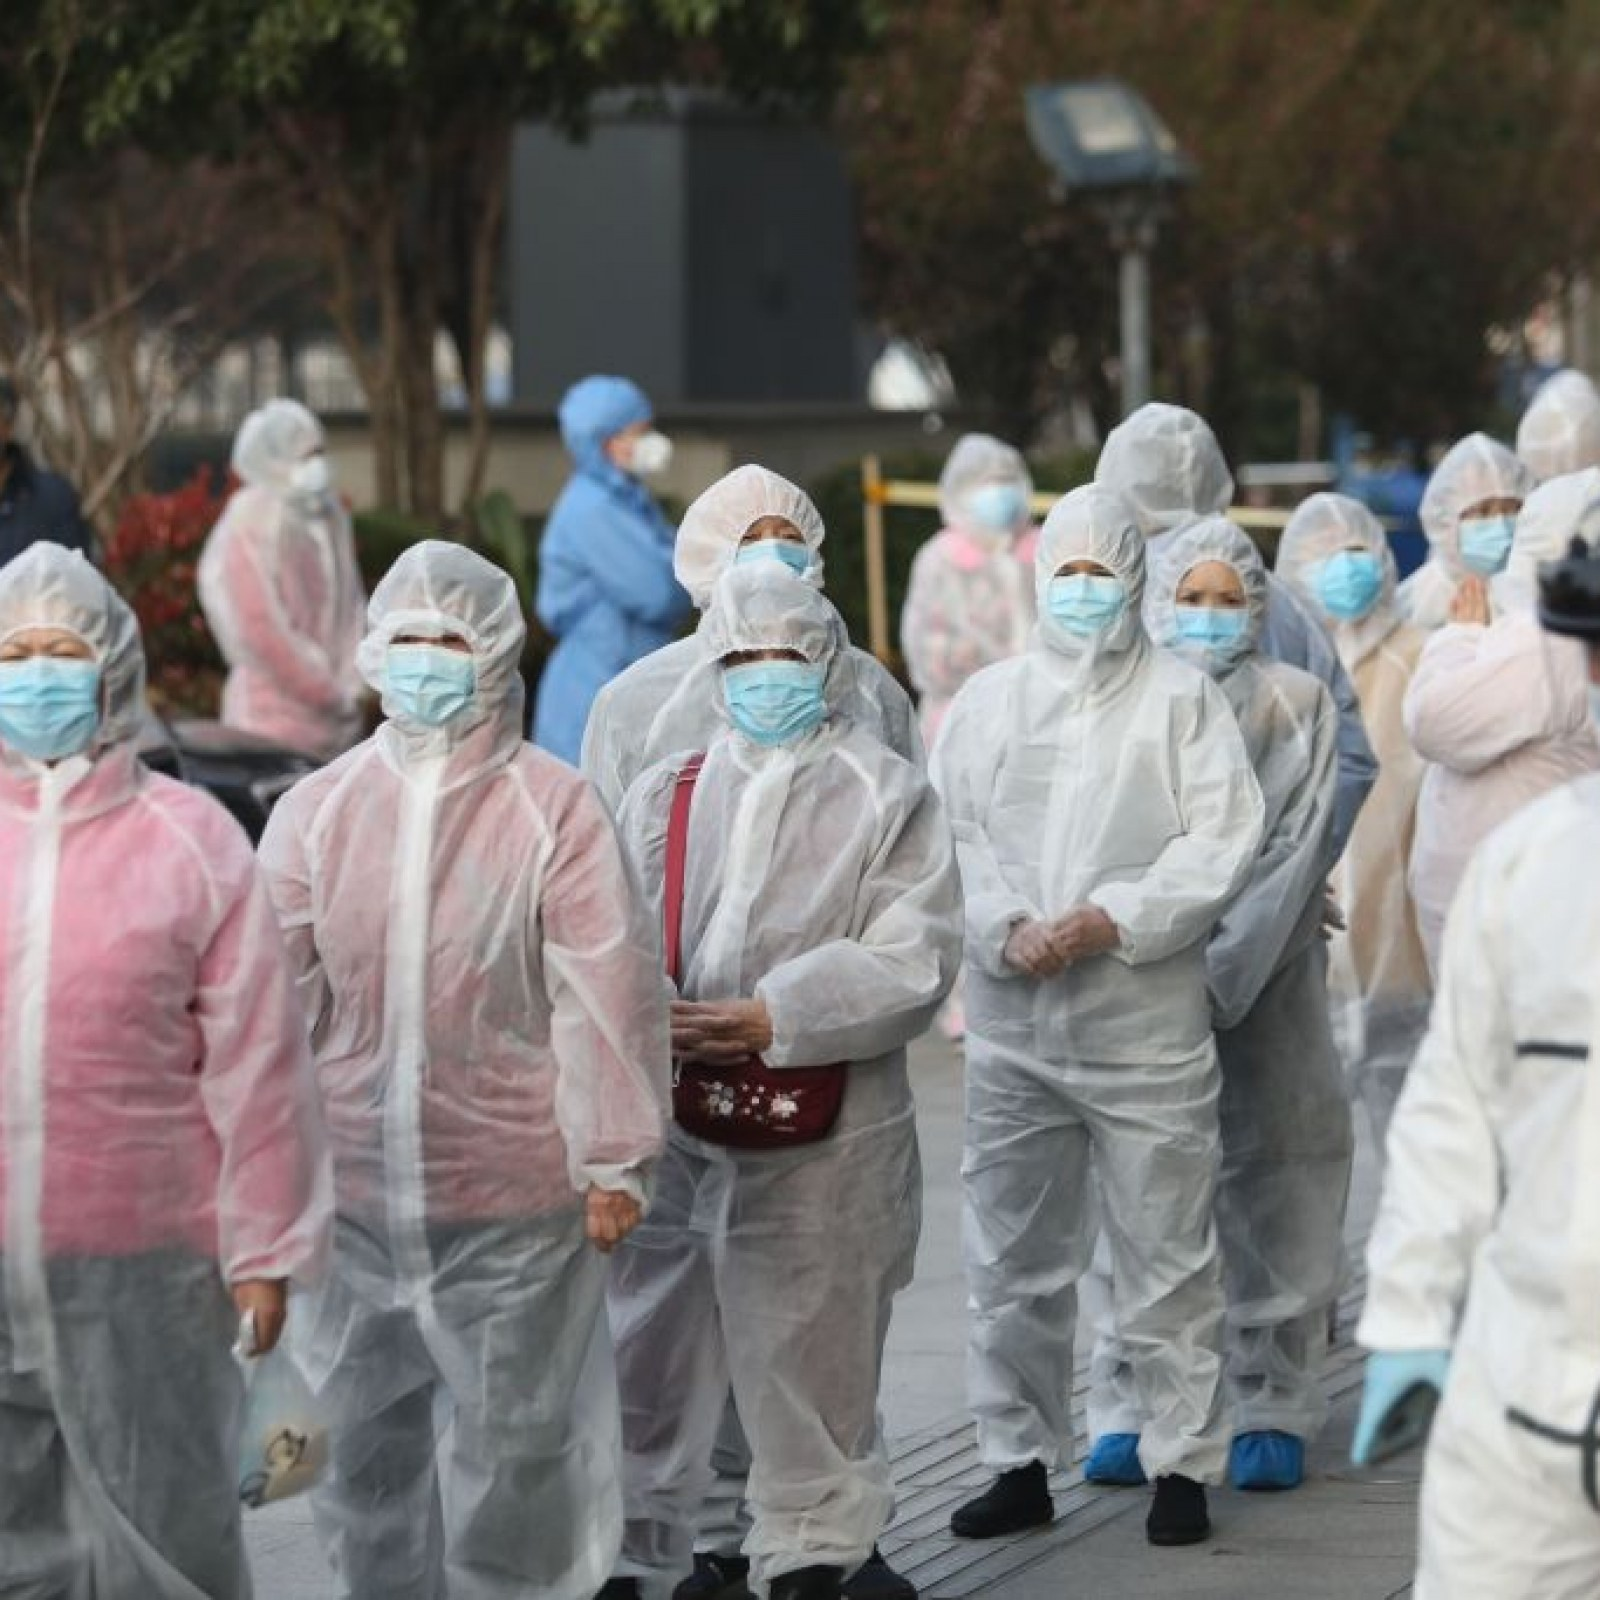Coverall: (281, 730, 604, 1600), (612, 743, 922, 1555), (948, 668, 1238, 1476), (1, 775, 264, 1600), (1221, 658, 1352, 1396), (534, 478, 682, 723), (209, 490, 357, 720)
with_mask: (1, 631, 99, 756), (717, 643, 826, 743), (1172, 586, 1257, 660), (1049, 558, 1121, 645)
